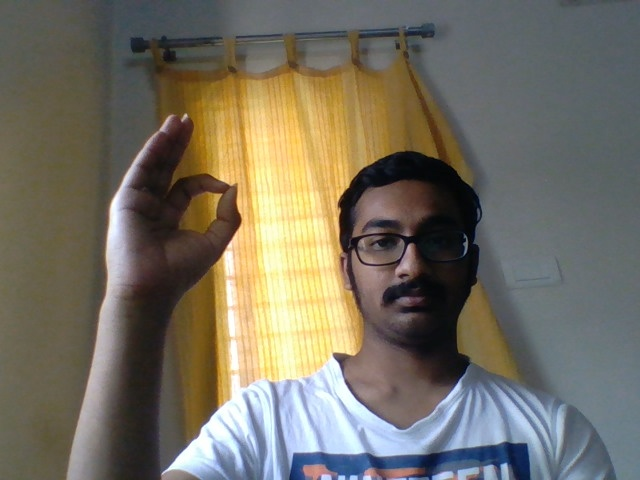hello: (68, 94, 287, 368)
